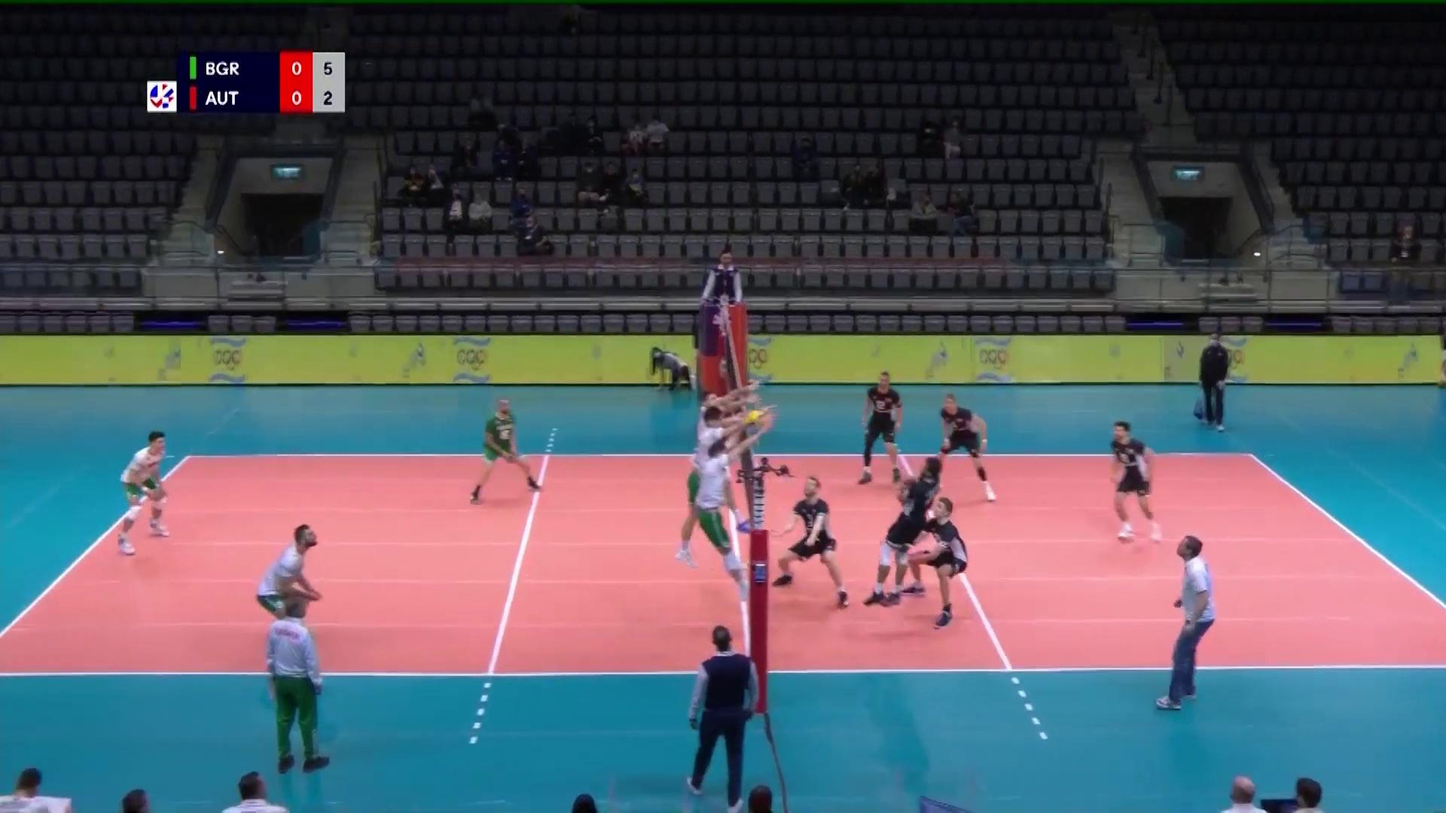ball: (747, 408, 763, 427)
